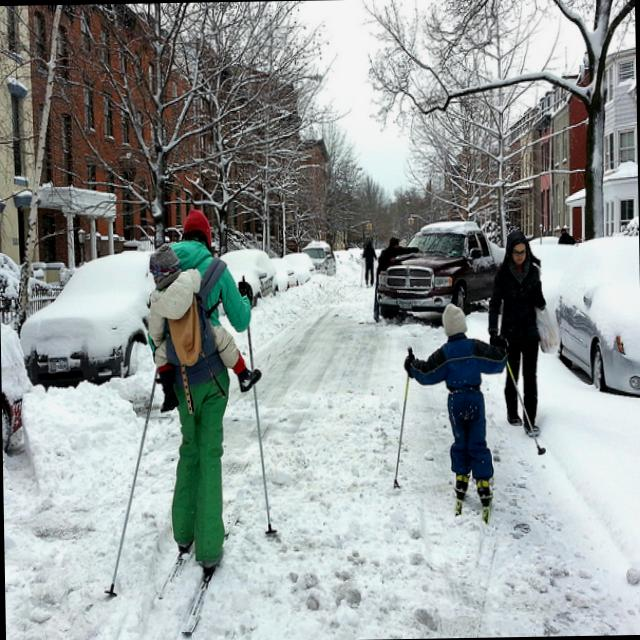Vehicle: (15, 248, 156, 387), (553, 233, 640, 396), (375, 217, 505, 326), (0, 321, 30, 468), (218, 250, 280, 306), (301, 242, 337, 276), (282, 252, 316, 285), (270, 256, 300, 289)
